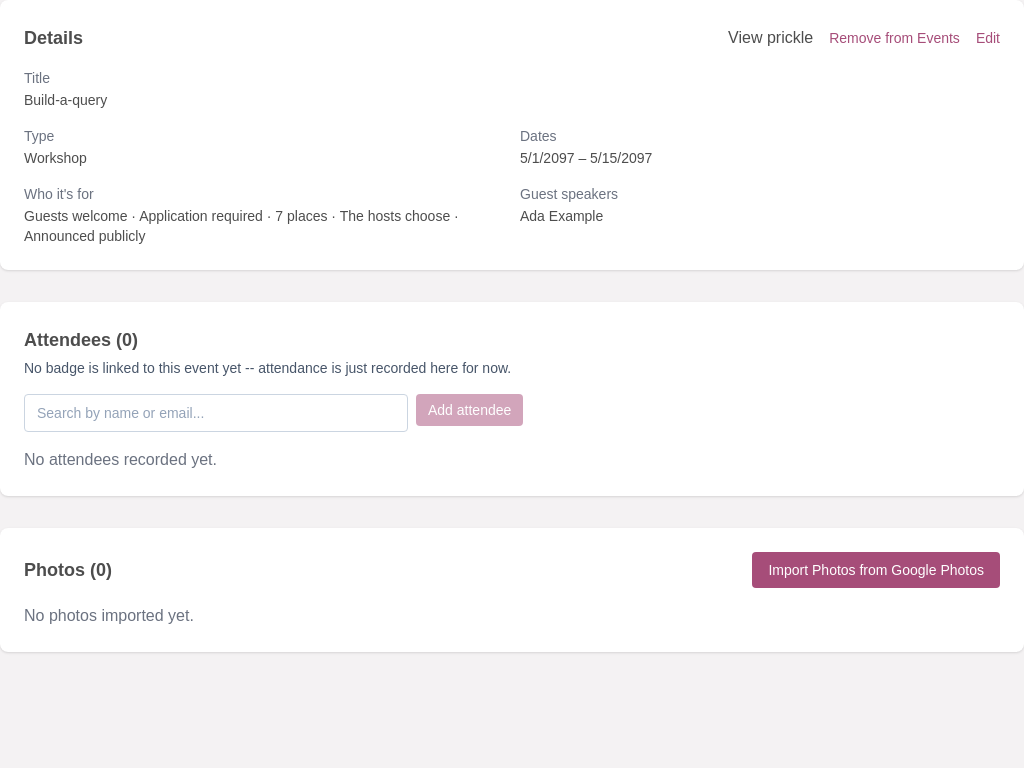
Test case: admin event on a calendar prickle › keeps the dates read-only, since they come from Google Calendar, and links to the prickle
This screenshot has width=1024, height=768.
Click the button "Edit": (988, 38) [976,26,1000,50]
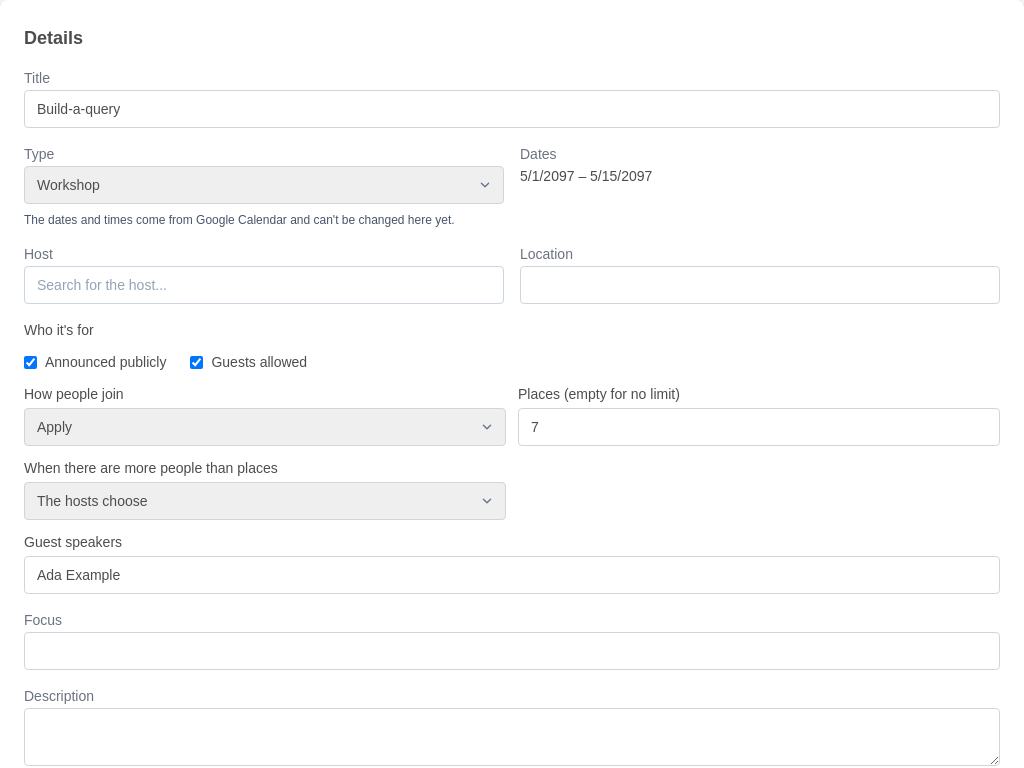
Expected: the field labelled "Title" is enabled, [24,90,1000,128]
